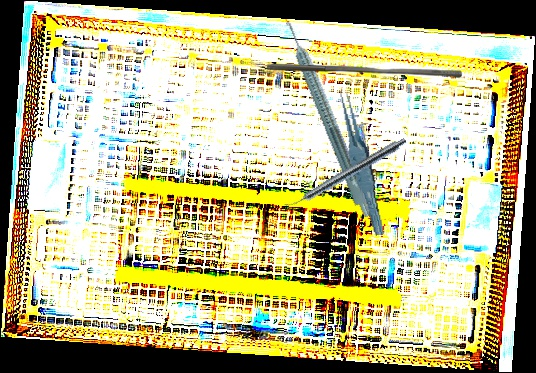Handpiece: (281, 15, 383, 221), (282, 133, 409, 214)
Pusher: (266, 63, 463, 78)
Tissue Forceps: (337, 85, 386, 238)
